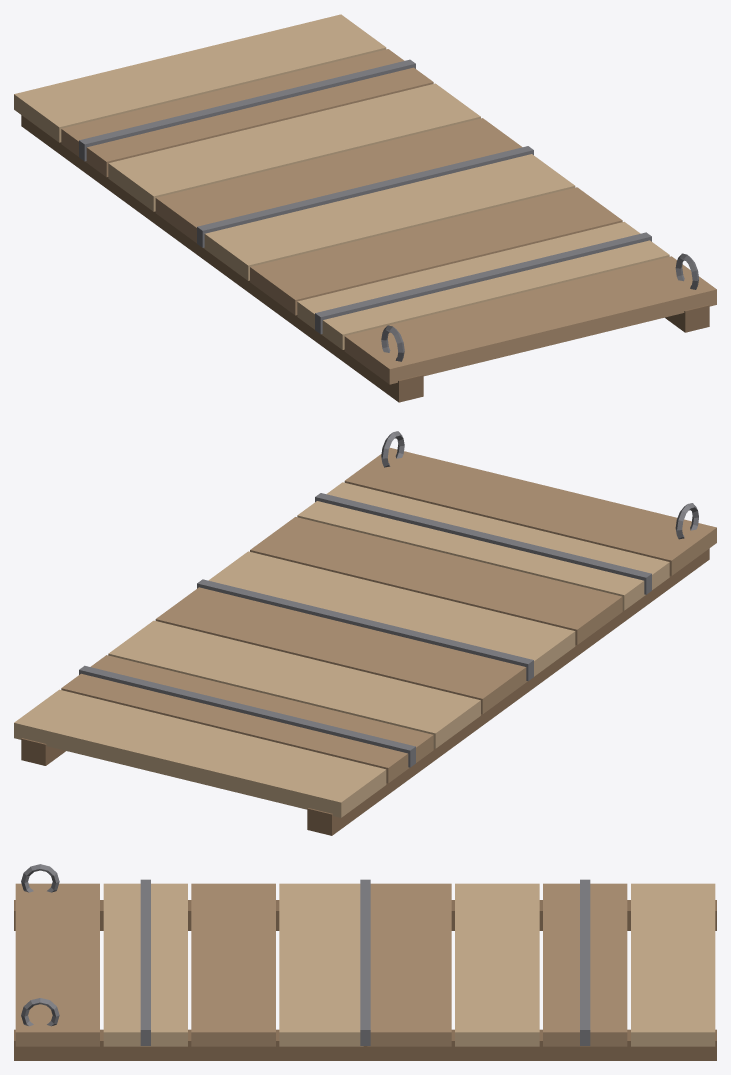
File: drawbridge.glb
3 renders of one model, top to bottom at view 1: azimuth 30°, elevation 25°; view 2: azimuth 150°, elevation 25°; view 3: azimuth 270°, elevation 25°, orthographic. The views are drawn at different scales.
Parts seen in each view (by area): view 1: drawbridge; view 2: drawbridge; view 3: drawbridge.
Boxes of the visible parts, x1=… form: drawbridge: x1=14, y1=14, x2=716, y2=402; drawbridge: x1=14, y1=431, x2=716, y2=835; drawbridge: x1=14, y1=864, x2=716, y2=1060.
Size of the model in its own units: 4.05 by 0.7451 by 8.
